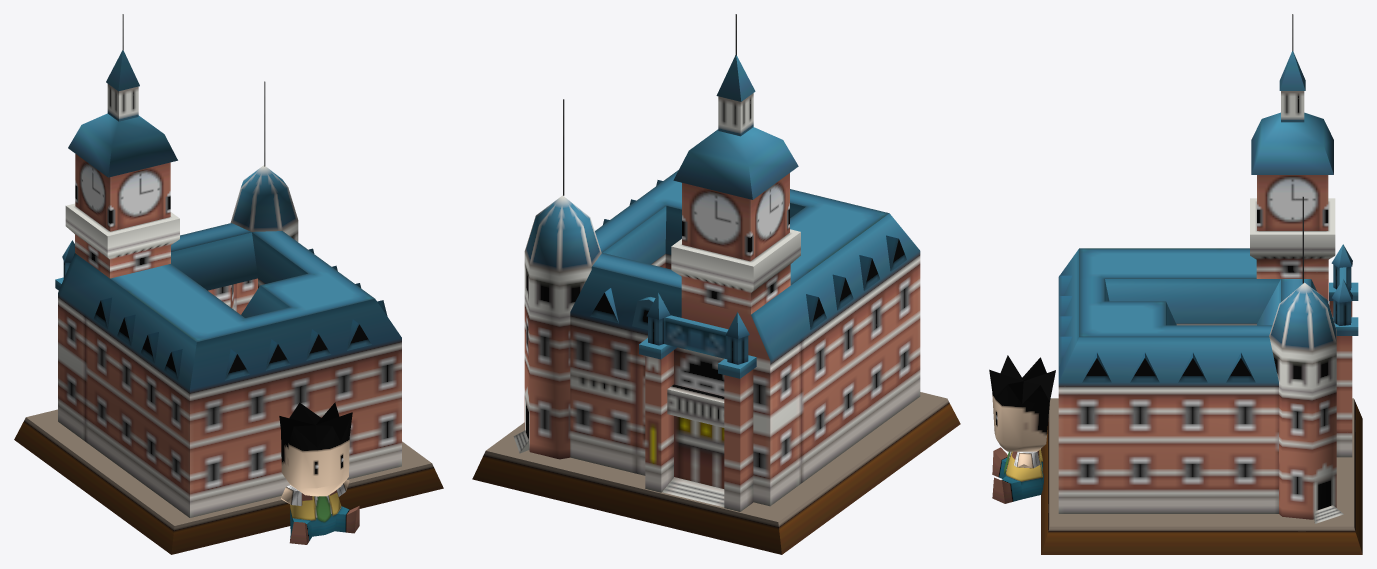
The model's file is icon.ico.obj.
3 renders of one model, left to right at view 1: azimuth 30°, elevation 25°; view 2: azimuth 150°, elevation 25°; view 3: azimuth 270°, elevation 25°, orthographic. The views are drawn at different scales.
Bounding box in the file's own units: 2.8 × 4.24 × 3.25.
1 material, 1 textured.
